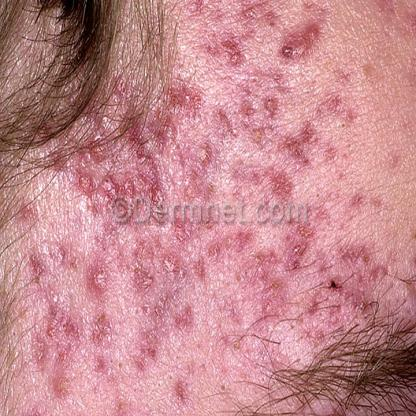Acne: (232, 51, 296, 155), (126, 232, 197, 300)
